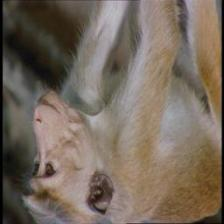monkey: (21, 85, 113, 224)
